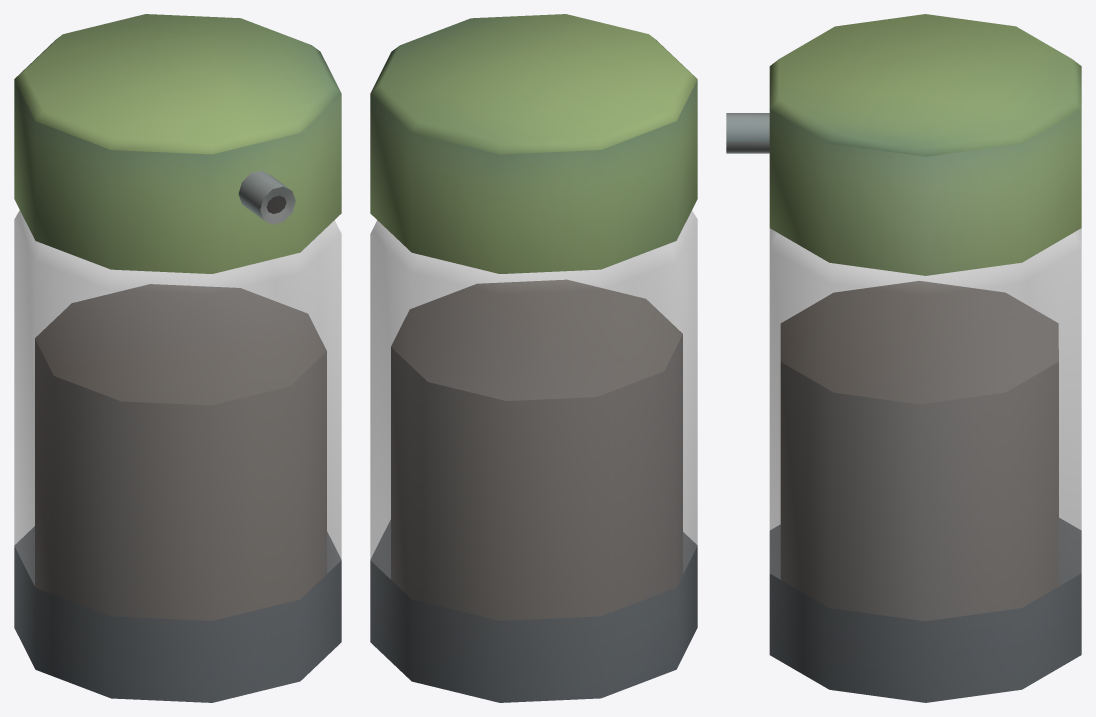
Rendered from prop_sourcebottle02.fbx.
The picture shows the model from 3 angles, left to right: view 1: azimuth 30°, elevation 25°; view 2: azimuth 150°, elevation 25°; view 3: azimuth 270°, elevation 25°; orthographic projection.
Visible parts, largest first — view 1: prop_sourcebottle02; view 2: prop_sourcebottle02; view 3: prop_sourcebottle02.
Boxes of the visible parts, box(x1,y1,x2,y2) form: prop_sourcebottle02: box(14, 14, 341, 702); prop_sourcebottle02: box(370, 14, 697, 702); prop_sourcebottle02: box(726, 14, 1081, 702).
Size of the model in its own units: 0.0773 by 0.1443 by 0.0838.
